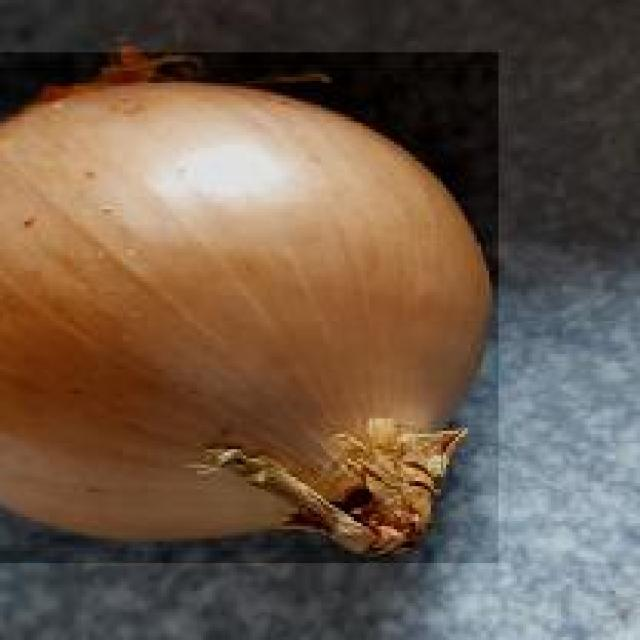onion: (0, 49, 498, 563)
